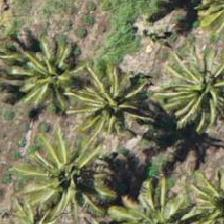coconut_tree: (29, 128, 119, 218), (64, 68, 154, 158), (3, 28, 93, 118), (159, 46, 223, 136)
